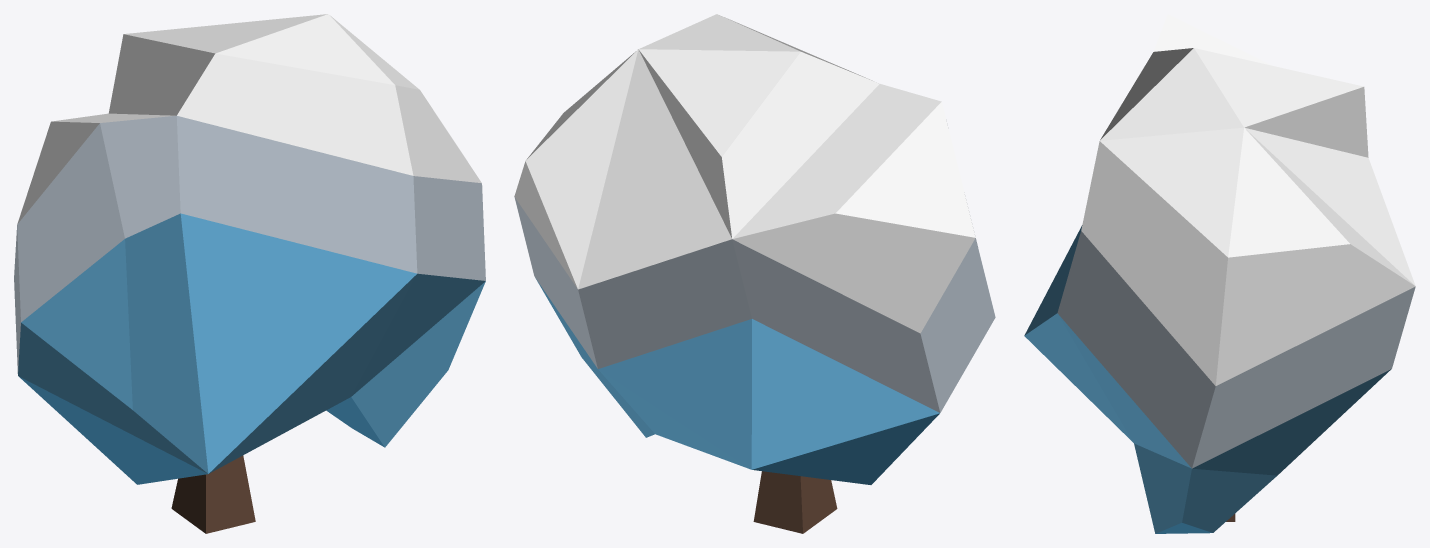
Rendered from BushWinter4.fbx.
The picture shows the model from 3 angles, left to right: view 1: azimuth 30°, elevation 25°; view 2: azimuth 150°, elevation 25°; view 3: azimuth 270°, elevation 25°; orthographic projection.
Visible parts, largest first — view 1: BushWinter4; view 2: BushWinter4; view 3: BushWinter4.
Boxes of the visible parts, box(x1,y1,x2,y2) form: BushWinter4: box(14, 14, 485, 533); BushWinter4: box(514, 14, 995, 533); BushWinter4: box(1024, 14, 1415, 533).
Bounding box in the file's own units: 0.4744 × 0.4457 × 0.343.
